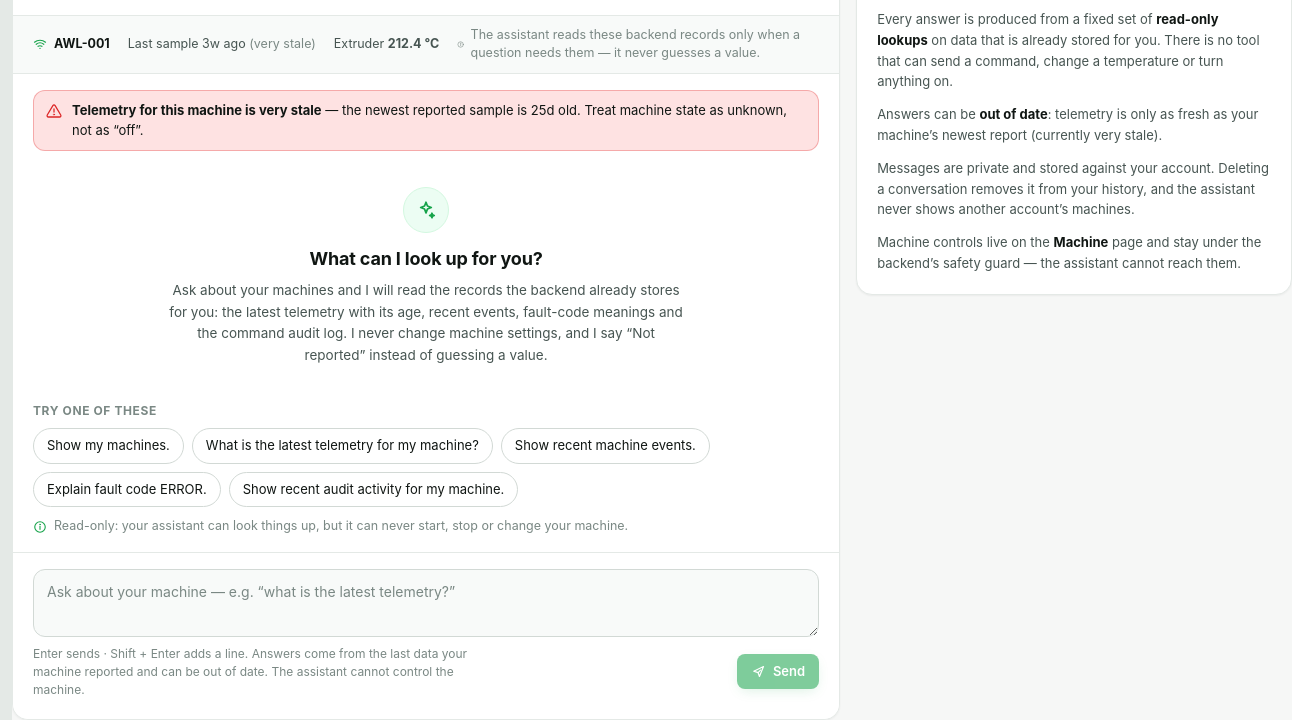
Test: assistant page — sending a turn › continues the same conversation with the id the backend returned
This screenshot has width=1292, height=720.
(page scrolled)
Replace the text in the text box named "ask the assistant" with "first question": (426, 603) [33,569,819,636]
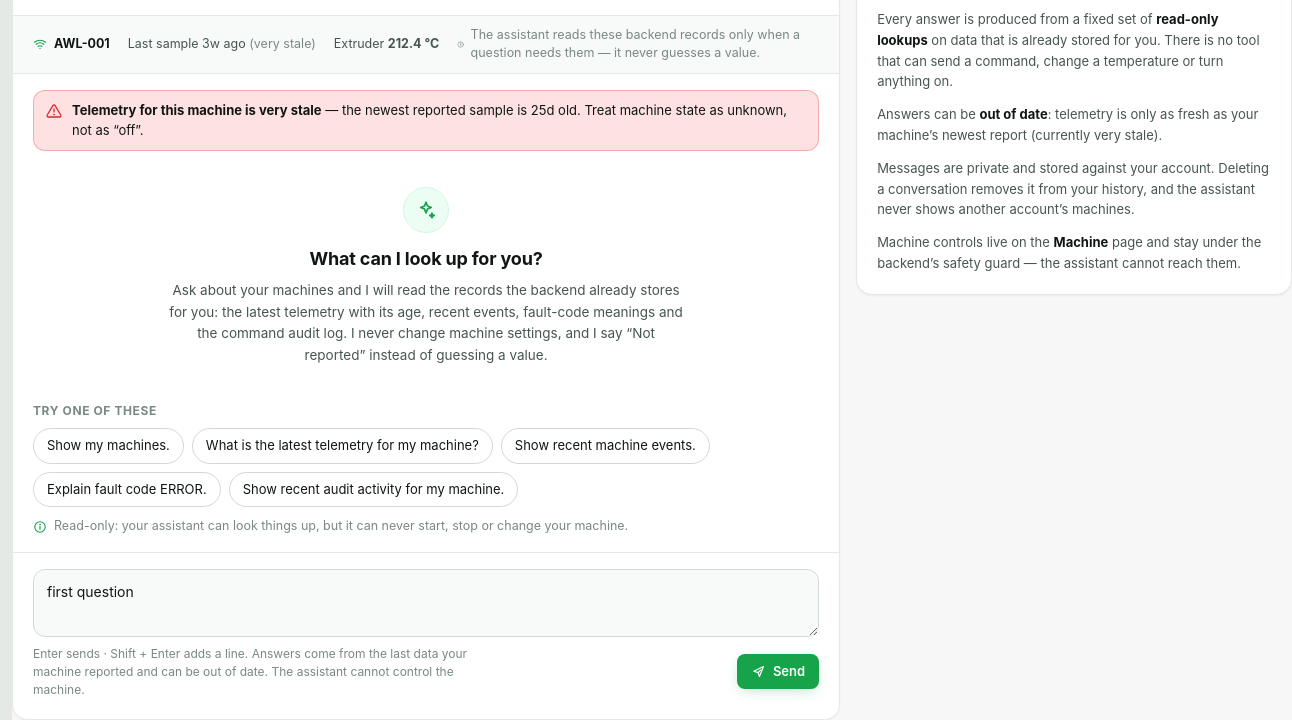
Click the button with aria-label "send message": (778, 672) [737,654,819,689]
(page scrolled)
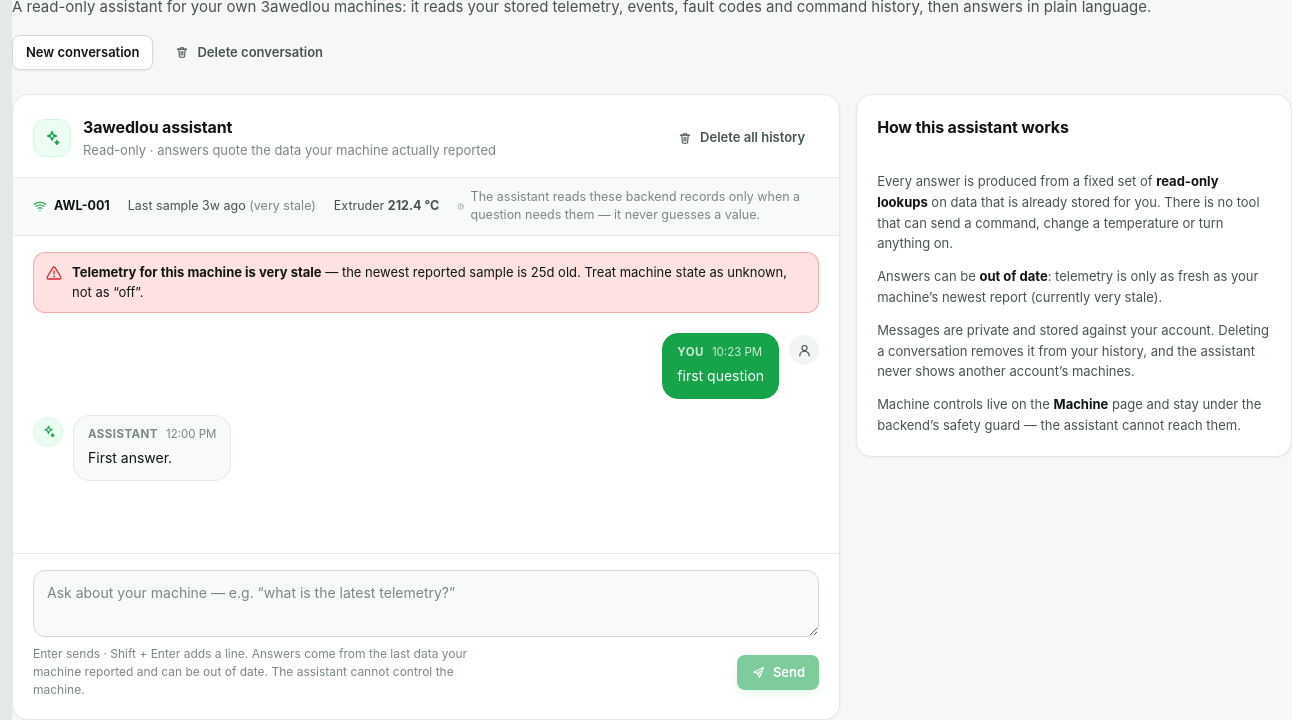
Expected: the text "First answer." is shown, [88,449,172,466]
Replace the text in the text box named "ask the assistant" with "second question": (426, 604) [33,570,819,637]
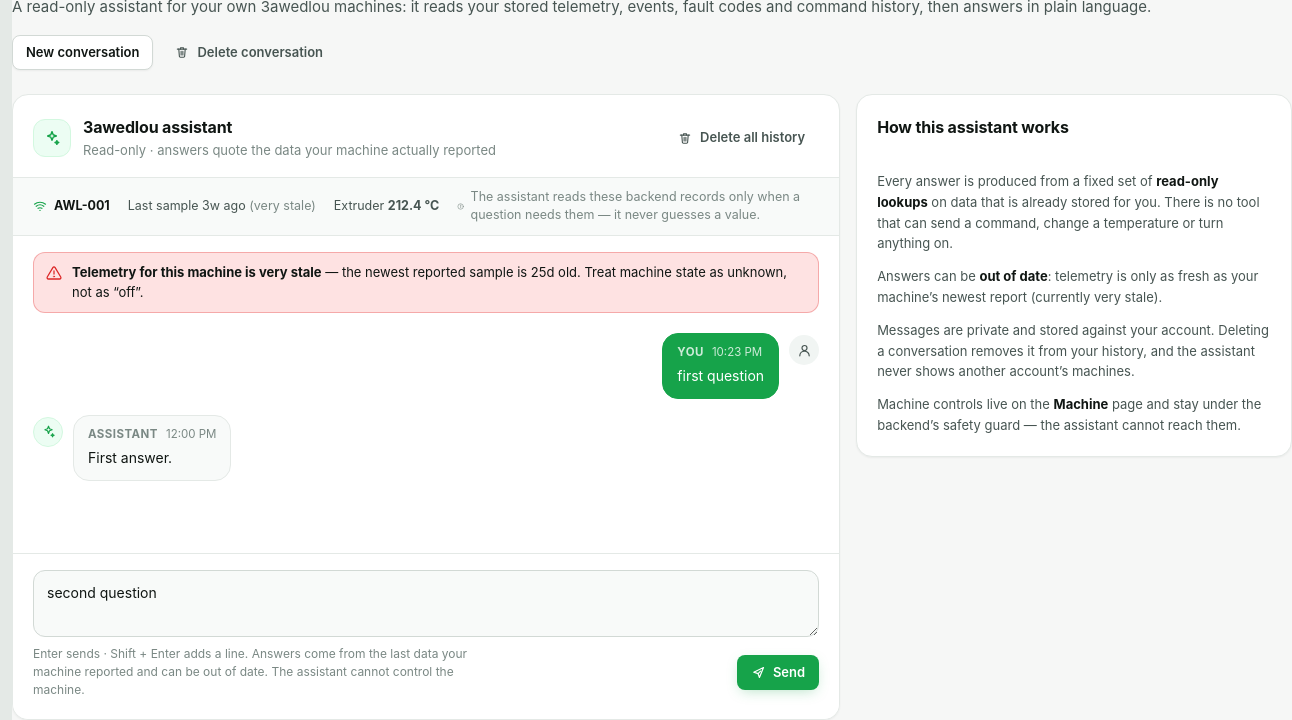
Click the button with aria-label "send message": (778, 672) [737,655,819,690]
(page scrolled)
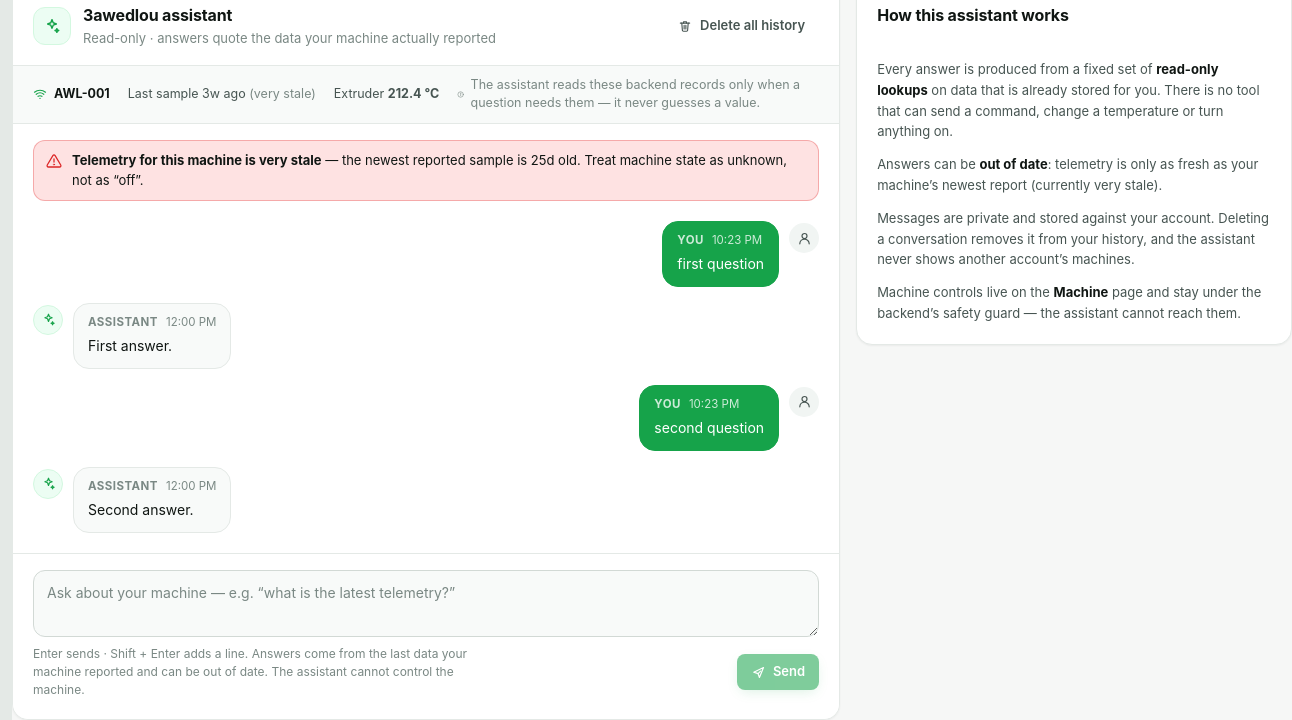
Expected: the text "Second answer." is shown, [88,501,194,518]
